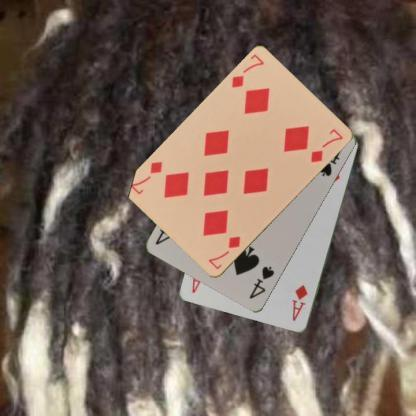4s: (247, 264, 276, 300)
7d: (228, 52, 266, 90), (206, 234, 242, 272)
Ad: (290, 282, 310, 323)
